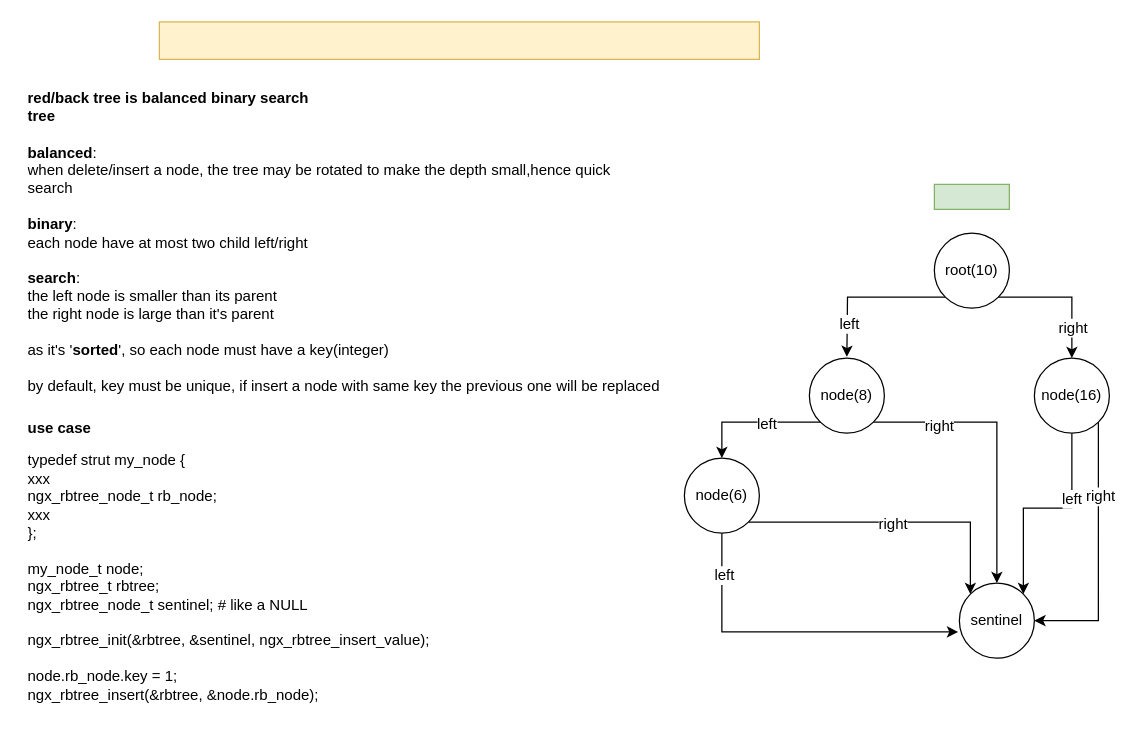
The diagram is 1136 pixels wide and 731 high, and some of its shapes have lost their labels. Each missing label, with the centre of its shape:
"RB Tree" belongs at point (971, 196).
"rb(radix) tree is a kind of balanced binary search tree" belongs at point (458, 40).
